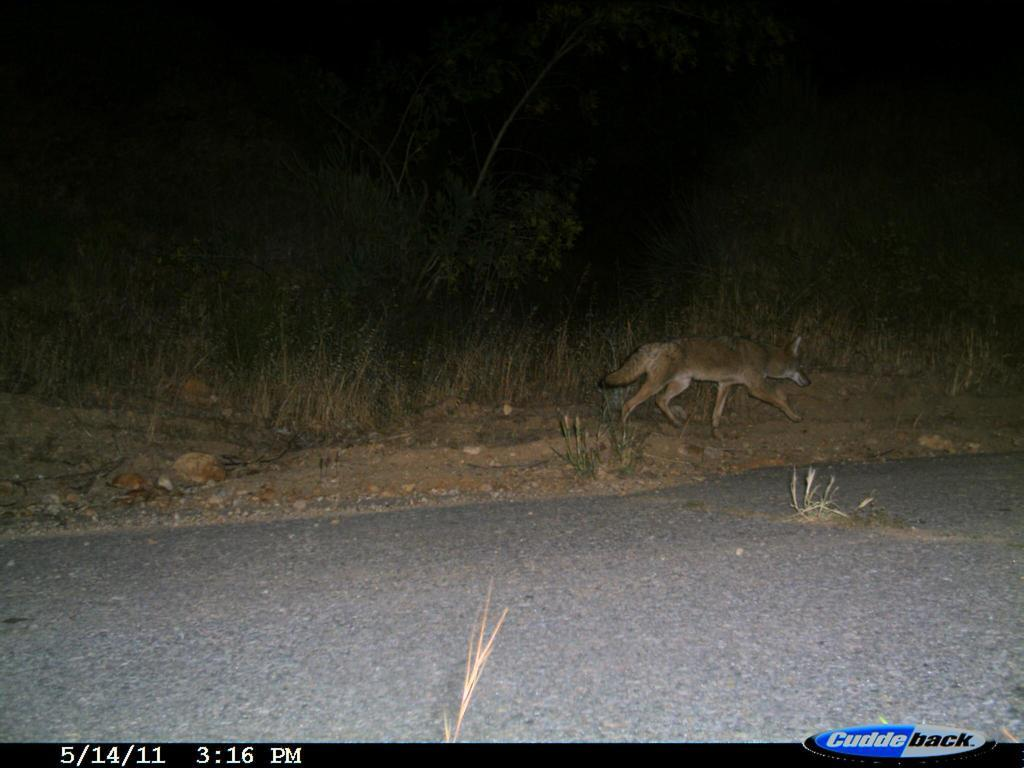coyote: (592, 319, 822, 454)
